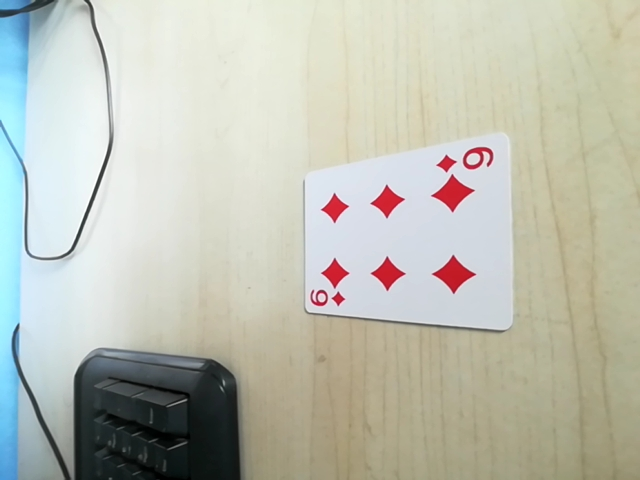fk 6: (436, 141, 498, 176), (304, 286, 351, 315)
